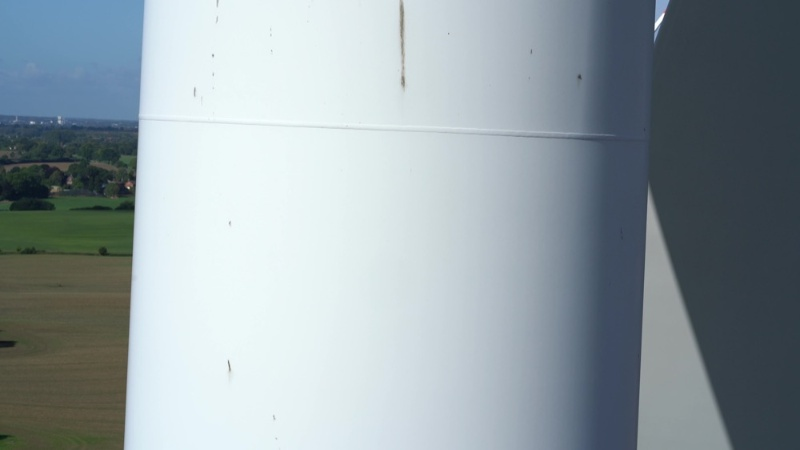weldseam: (135, 108, 653, 153)
